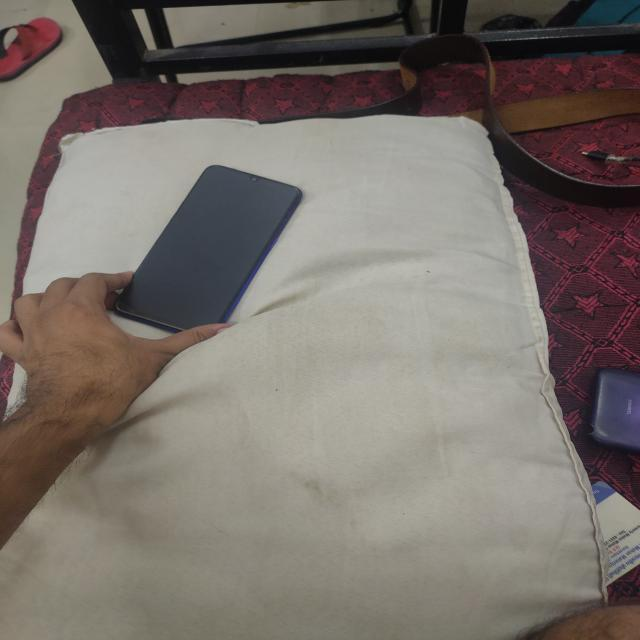Phone: (109, 160, 310, 341)
